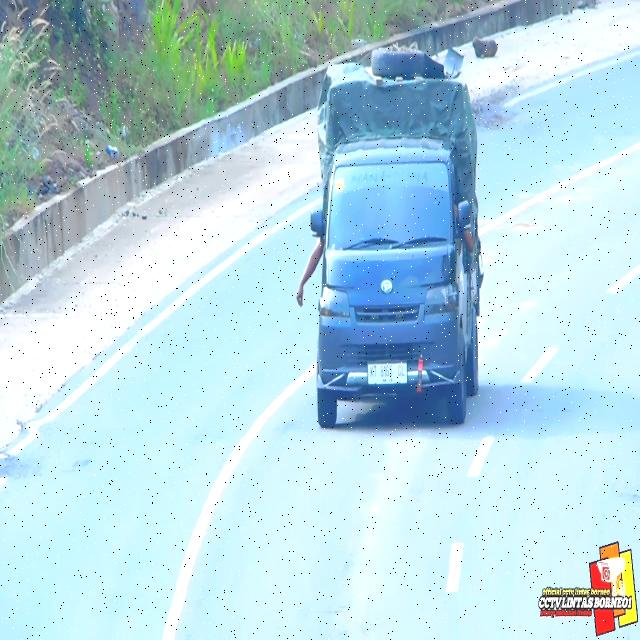Golongan IVB: (310, 132, 482, 432)
